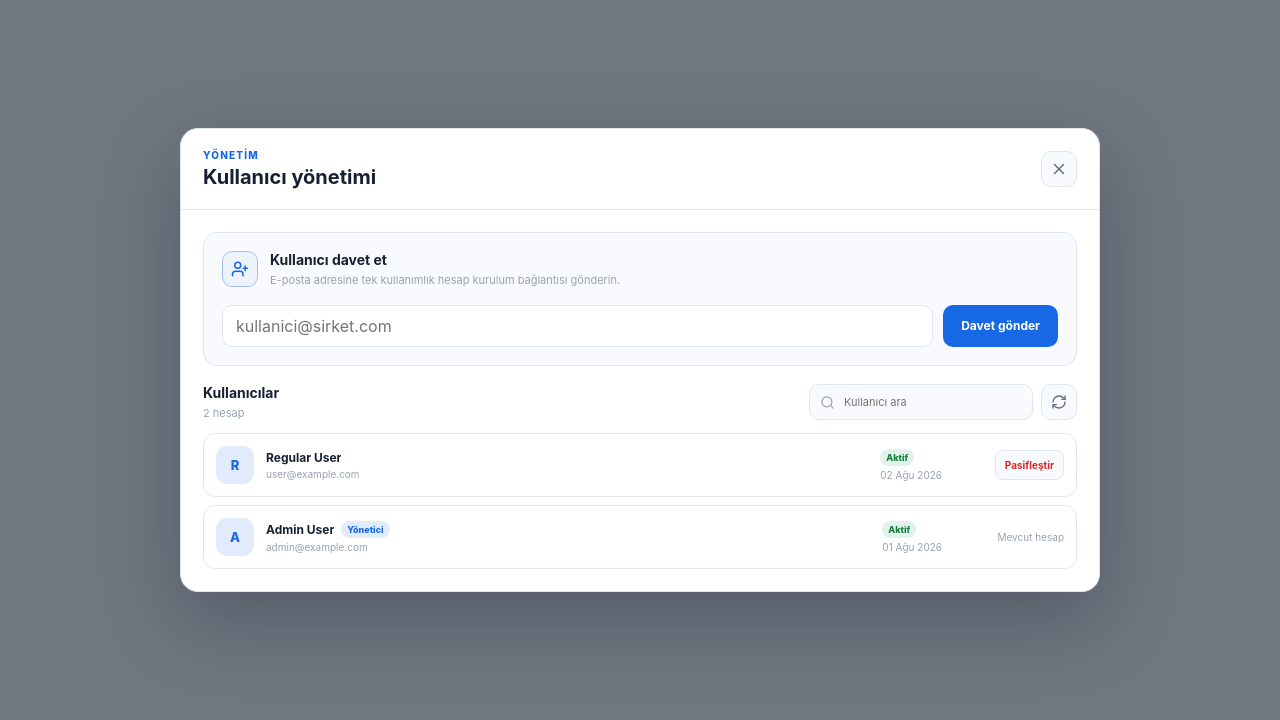
Test: AdminUserPanel › davet e-postasını normalleştirir ve bağlantıyı kopyalar
Check: the text "Regular User" is shown, box [266, 450, 341, 465]
Type "  NEW@EXAMPLE.COM  " into the field with placeholder "kullanici@sirket.com" at (578, 326), box [222, 304, 933, 346]
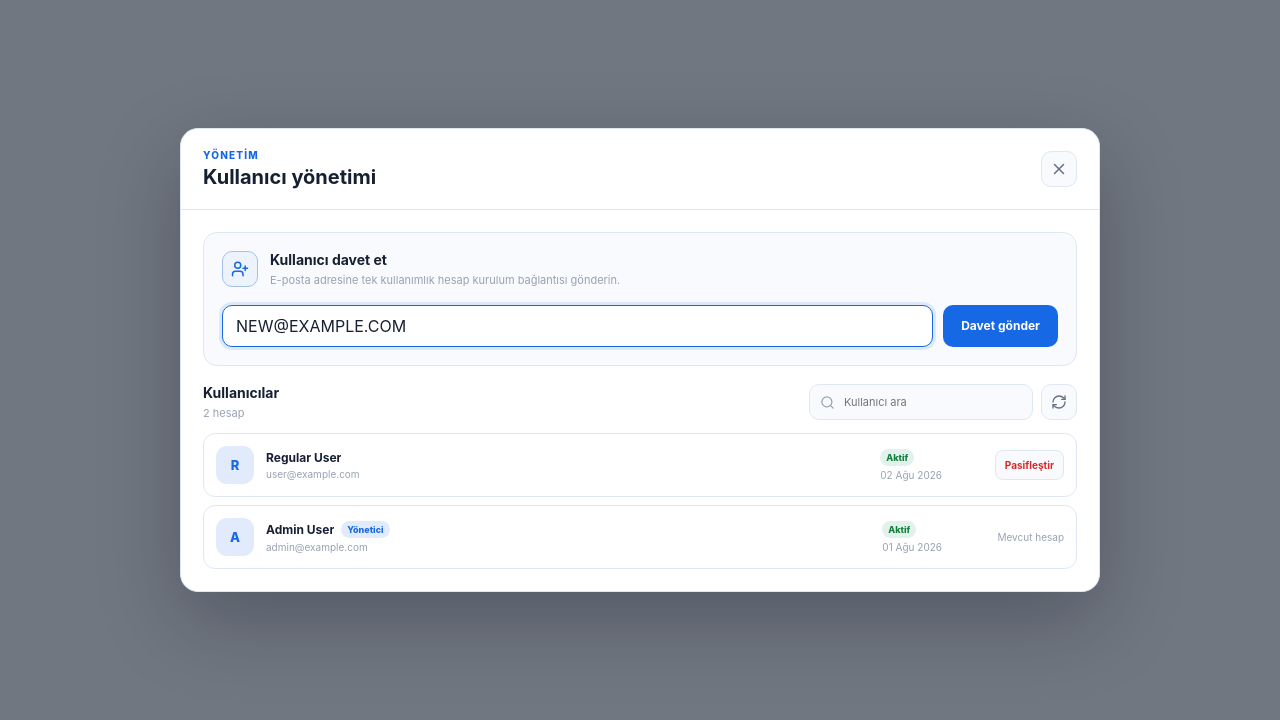
Click the button "Davet gönder" at (1001, 326), box [943, 304, 1058, 346]
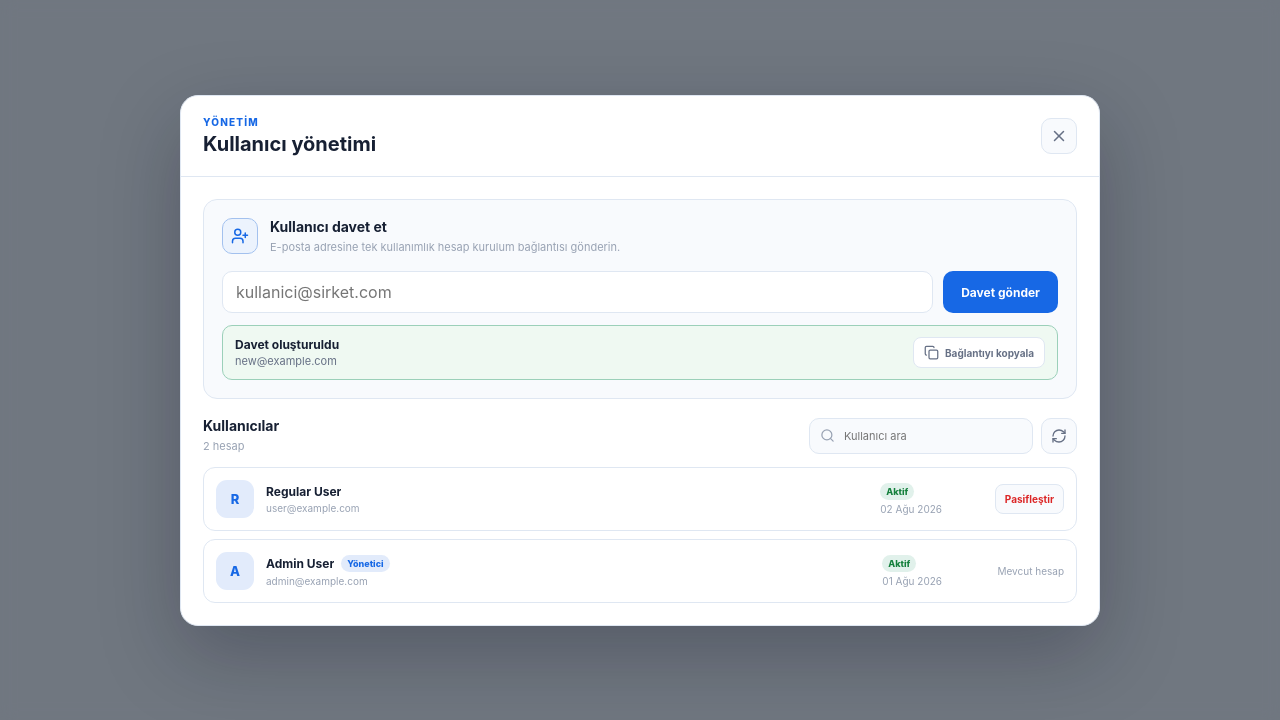
Check: the message shows "Davet oluşturuldu", box [235, 337, 339, 352]
Click the button "Bağlantıyı kopyala" at (979, 352), box [913, 337, 1045, 368]
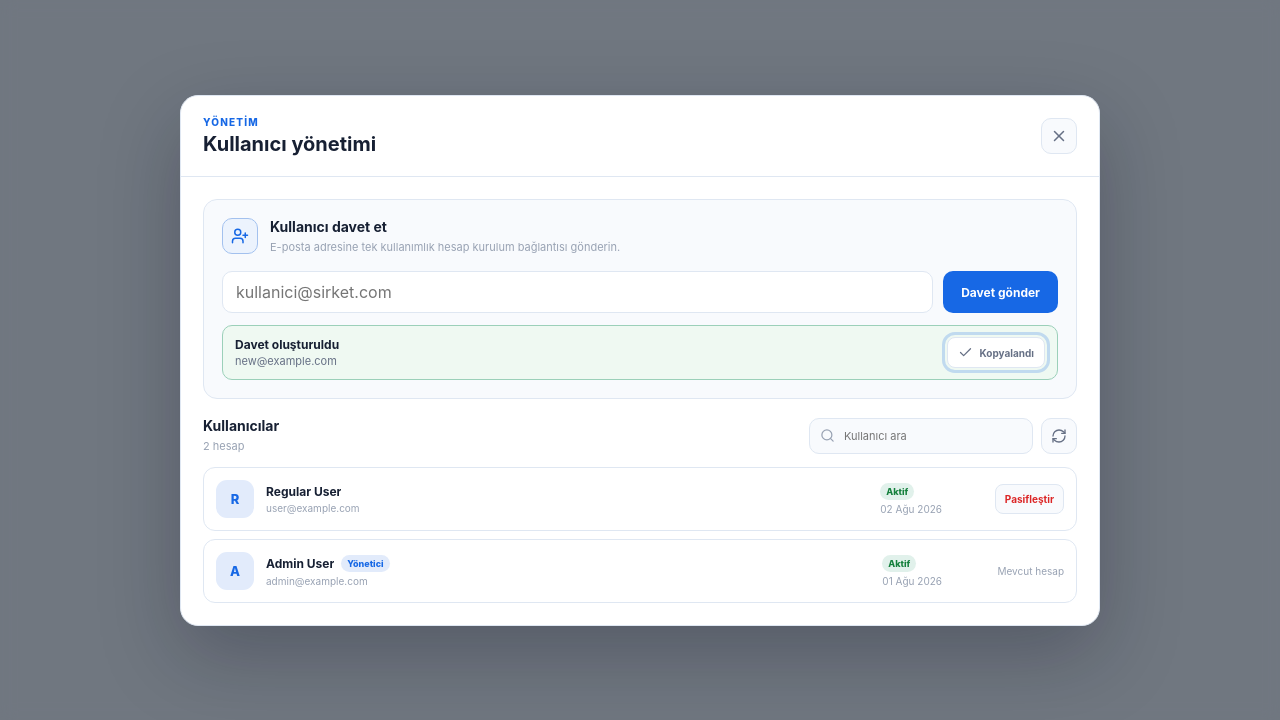
Check: the button "Kopyalandı" is shown, box [948, 337, 1045, 368]
